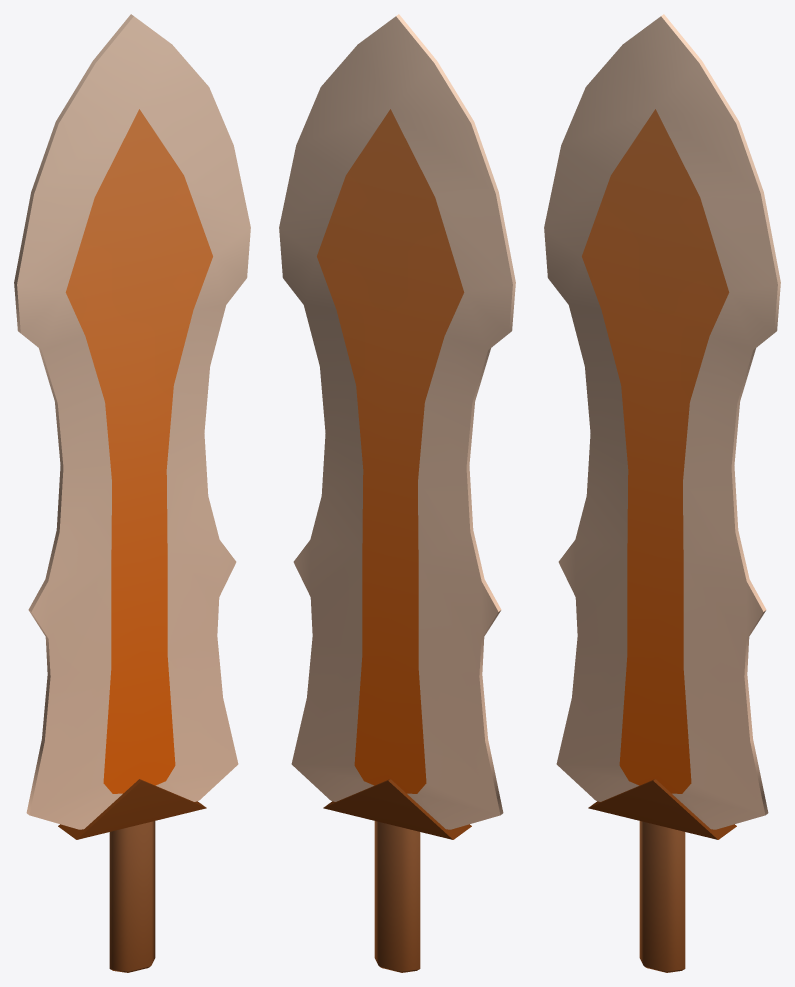
File: weapon10.fbx
3 renders of one model, left to right at view 1: azimuth 30°, elevation 25°; view 2: azimuth 150°, elevation 25°; view 3: azimuth 330°, elevation 25°, orthographic.
Parts seen in each view (by area): view 1: weapon10; view 2: weapon10; view 3: weapon10.
Part boxes in pixels (x1,y1,x2,y2): weapon10: (14,14,250,972); weapon10: (279,14,515,972); weapon10: (544,14,780,972).
Bounding box in the file's own units: 15.23 × 59.19 × 2.11.
